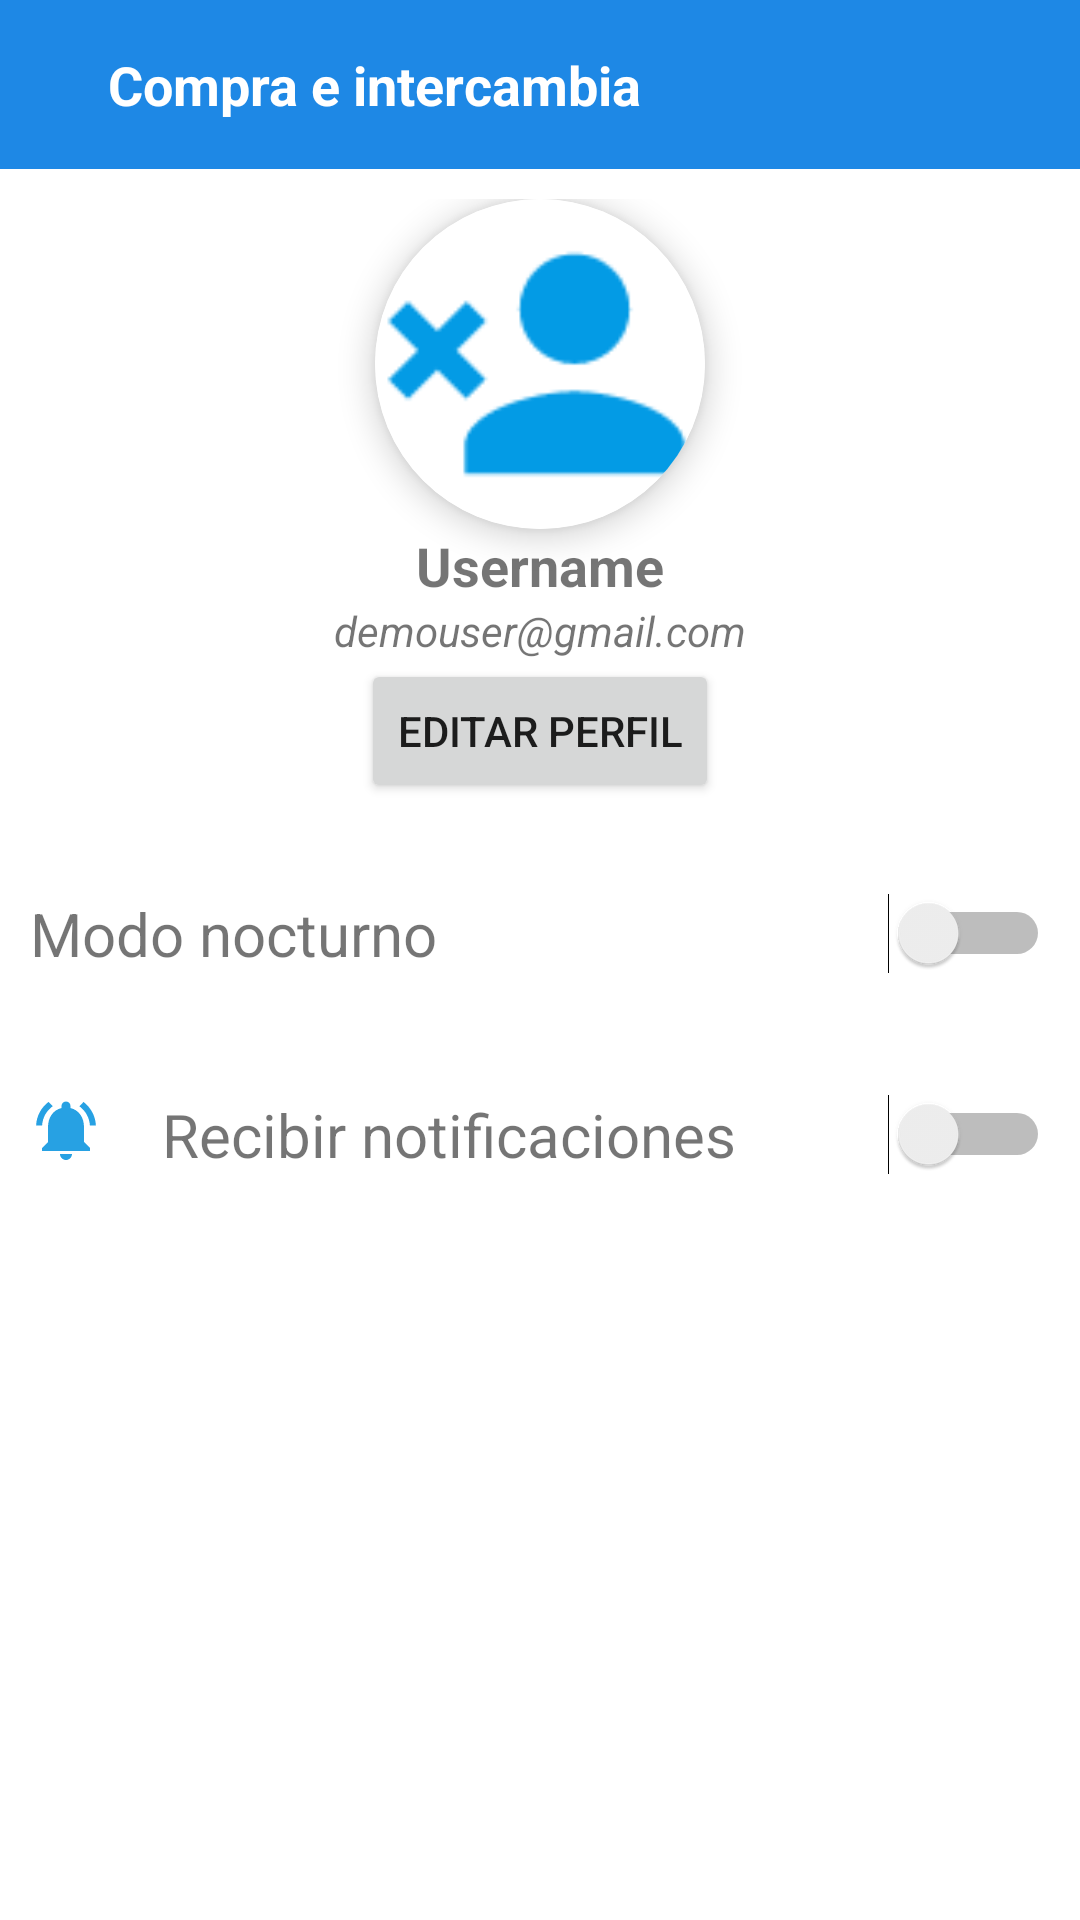

Icons on this 1080×1920 Android screen, each with the point to tap as [x,y]:
no logged: [540,364]
notification: [66,1130]
